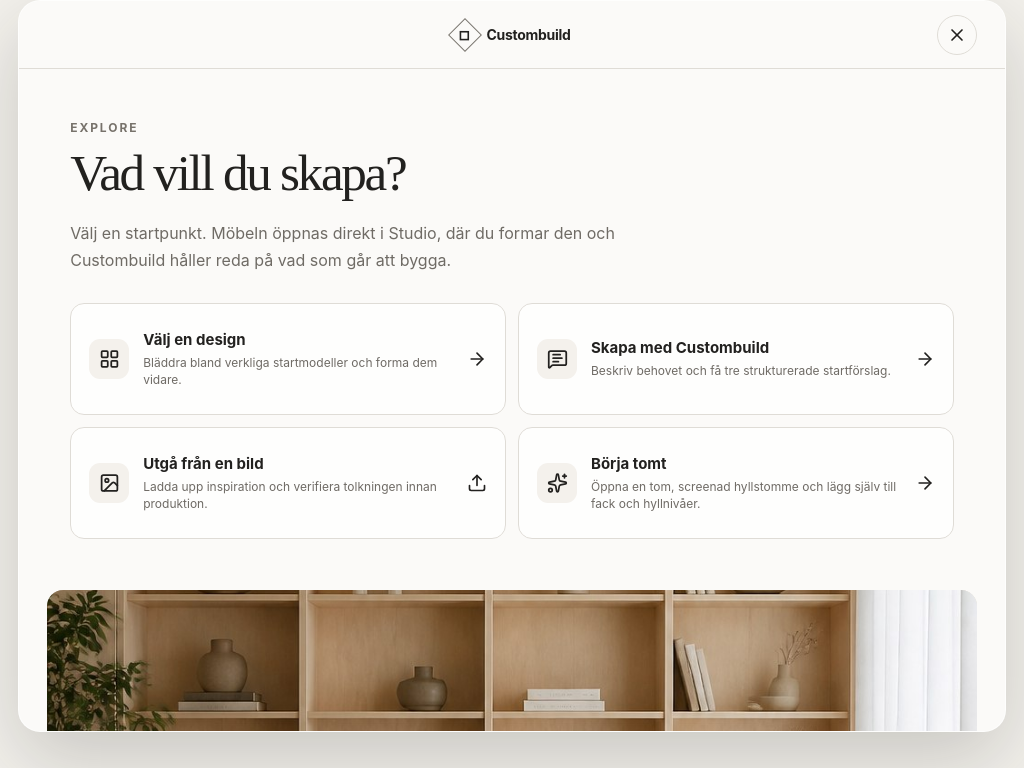
Test case: TemplatePicker Explore entry › shows a clear no-op when a confirmed height cannot fit a wall-library base
This screenshot has width=1024, height=768.
Click the button "Skapa med Custombuild": (736, 359) [518,303,954,415]
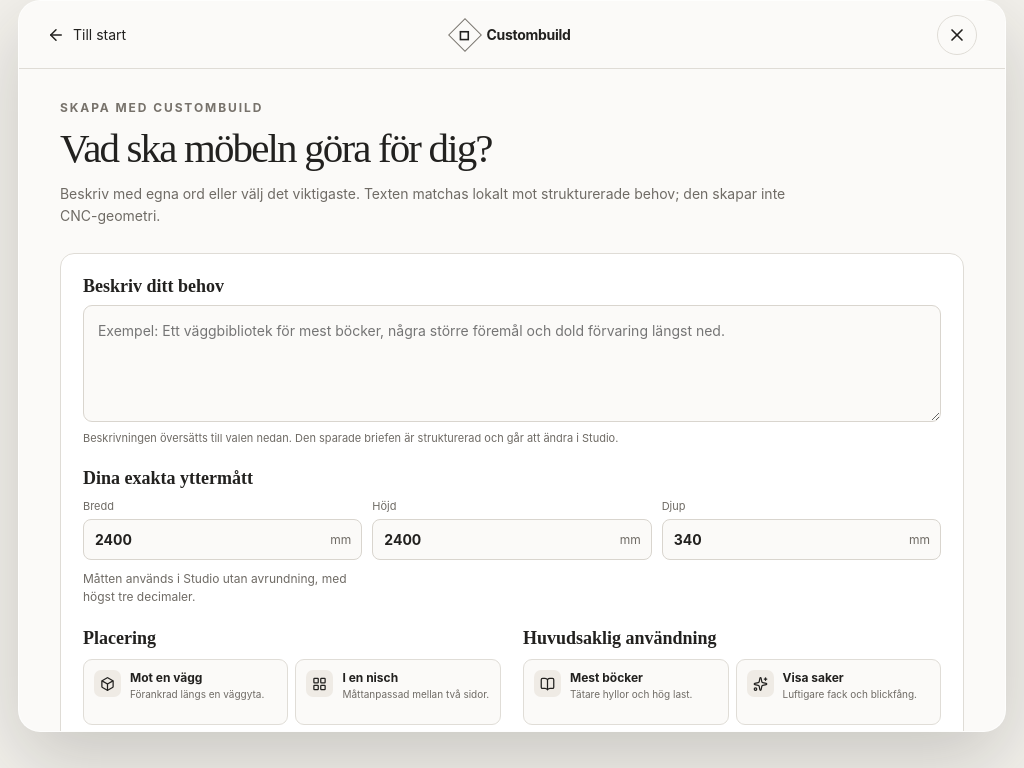
Replace the text in the text box labelled "Beskriv ditt behov" with "En vägg med dold förvaring": (512, 363) [83,305,941,422]
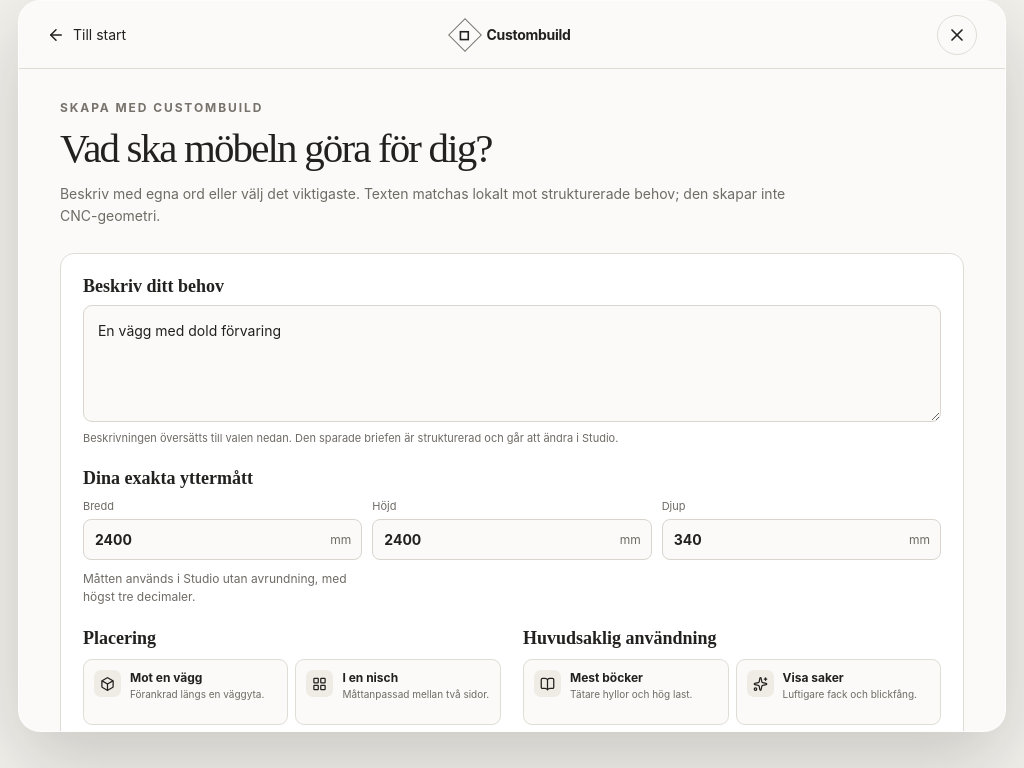
Replace the text in the number field named "Planerad höjd" with "300": (496, 540) [373,520,620,559]
(page scrolled)
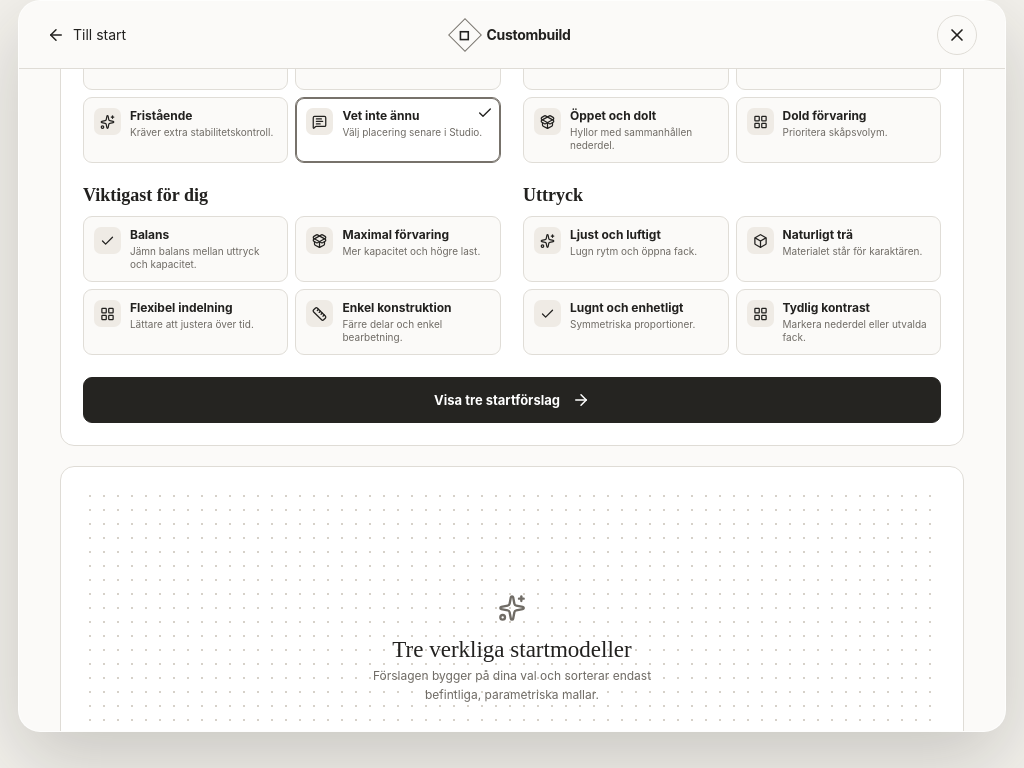
Click the button "Visa tre startförslag": (512, 400) [83,377,941,423]
(page scrolled)
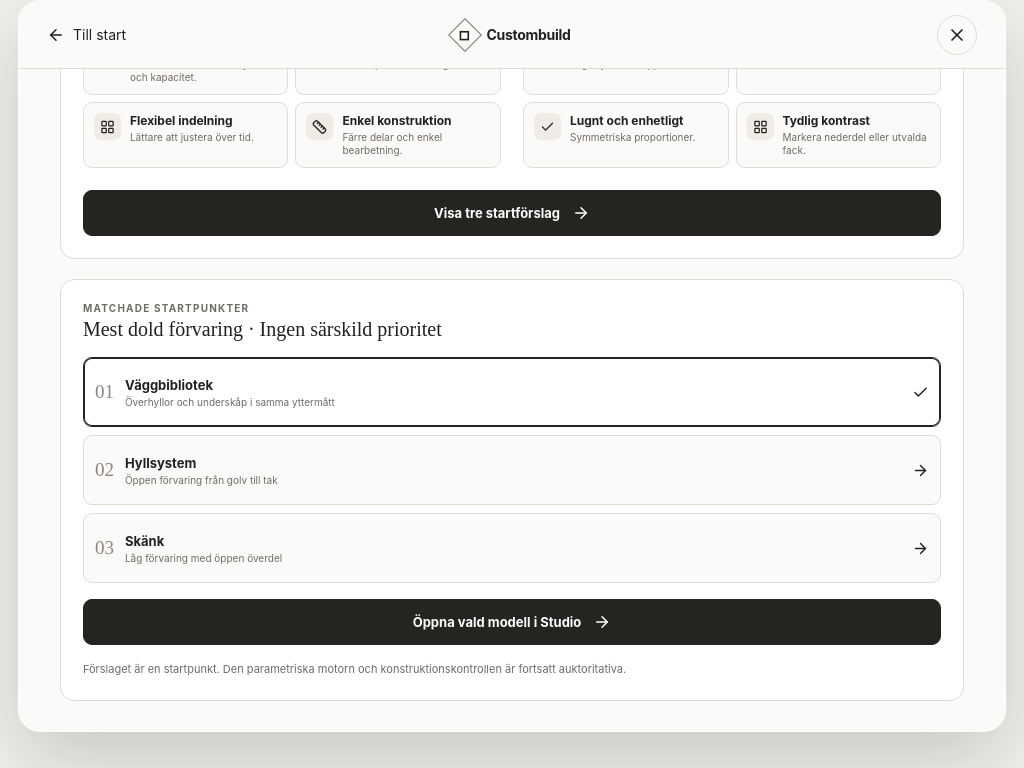
Click the button "Öppna vald modell i Studio": (512, 622) [83,599,941,645]
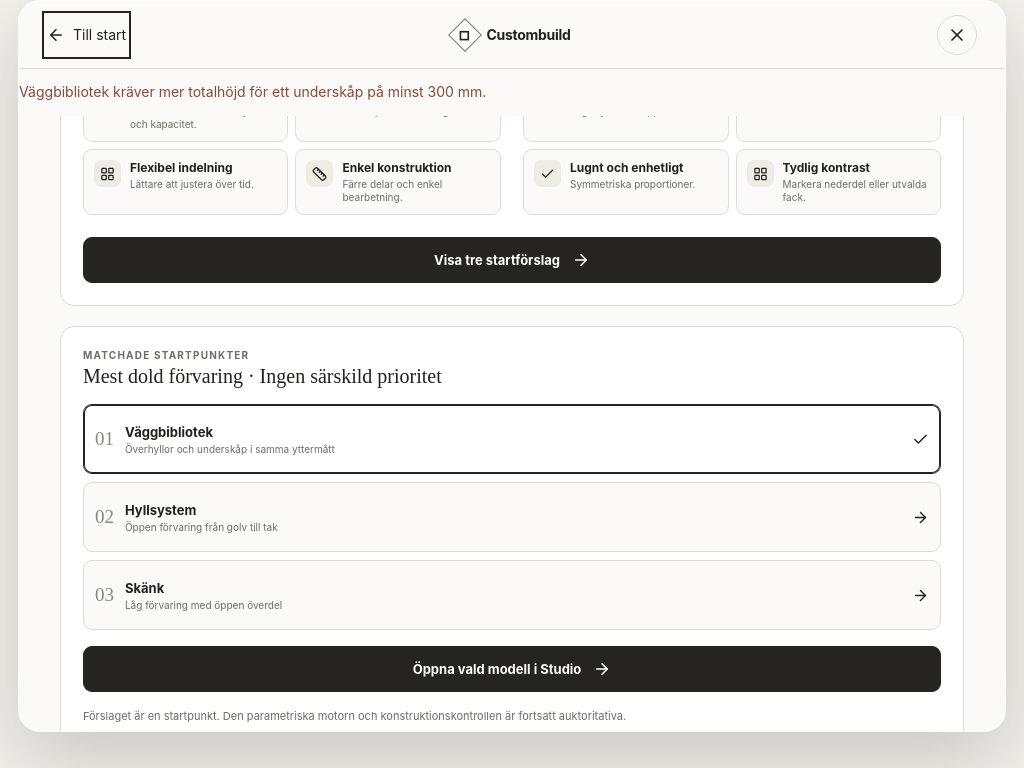
Expected: the message shows "kräver mer totalhöjd", [19,83,486,100]
